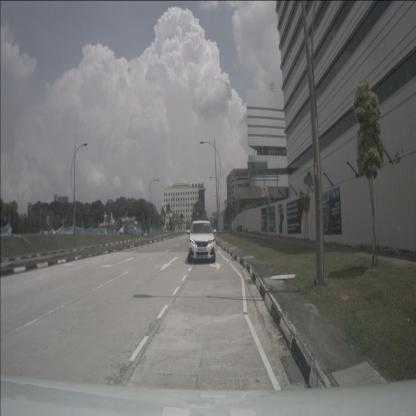vehicle-car: (188, 220, 216, 263)
